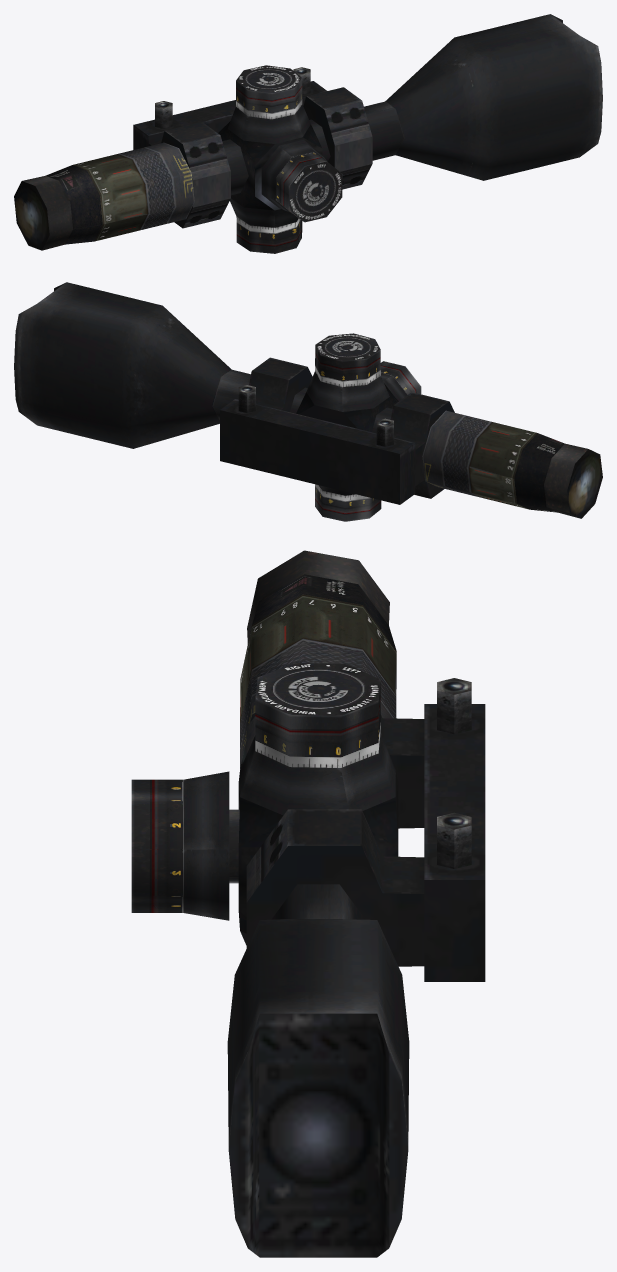
File: t6_wpn_sniper_xpr50_scope_world_LOD0.obj
3 renders of one model, top to bottom at view 1: azimuth 30°, elevation 25°; view 2: azimuth 150°, elevation 25°; view 3: azimuth 270°, elevation 25°, orthographic. The views are drawn at different scales.
Parts seen in each view (by area): view 1: mtl_t6_wpn_sniper_xpr50_scope, mtl_t6_wpn_sniper_xpr50_scope_camo2; view 2: mtl_t6_wpn_sniper_xpr50_scope, mtl_t6_wpn_sniper_xpr50_scope_camo2; view 3: mtl_t6_wpn_sniper_xpr50_scope, mtl_t6_wpn_sniper_xpr50_scope_camo2.
Part boxes in pixels (x1,y1,x2,y2): mtl_t6_wpn_sniper_xpr50_scope: [14, 14, 602, 250]; mtl_t6_wpn_sniper_xpr50_scope_camo2: [22, 65, 342, 253]; mtl_t6_wpn_sniper_xpr50_scope: [14, 282, 602, 518]; mtl_t6_wpn_sniper_xpr50_scope_camo2: [238, 333, 588, 521]; mtl_t6_wpn_sniper_xpr50_scope: [227, 574, 485, 1257]; mtl_t6_wpn_sniper_xpr50_scope_camo2: [131, 550, 471, 945].
Size of the model in its own units: 33.33 by 9.32 by 9.3.
